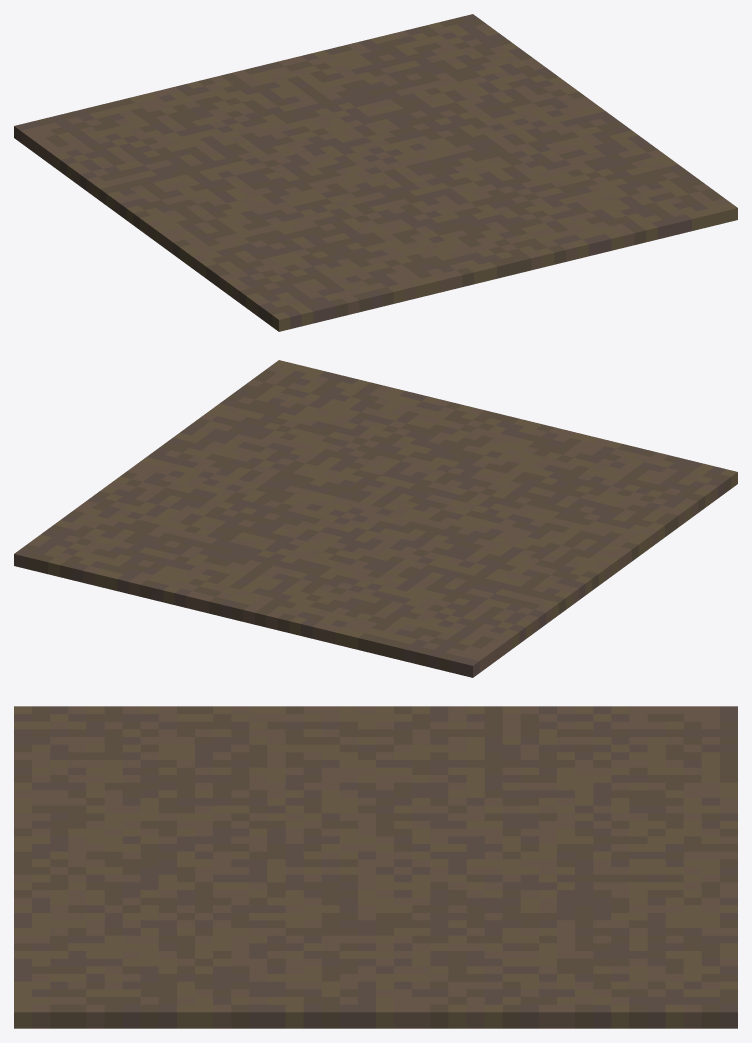
File: dirt_floor.obj
The picture shows the model from 3 angles, top to bottom: view 1: azimuth 30°, elevation 25°; view 2: azimuth 150°, elevation 25°; view 3: azimuth 270°, elevation 25°; orthographic projection. The views are drawn at different scales.
Bounding box in the file's own units: 4 × 0.1 × 4.
1 material, 1 textured.
